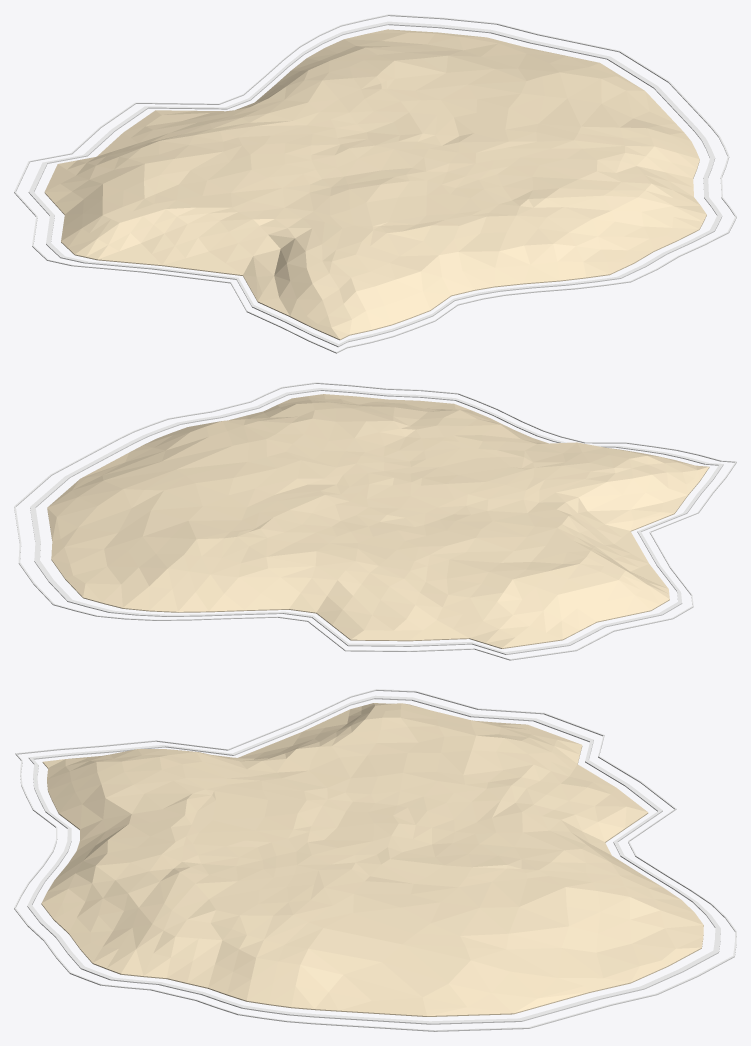
File: ground.dae
The picture shows the model from 3 angles, top to bottom: view 1: azimuth 30°, elevation 25°; view 2: azimuth 150°, elevation 25°; view 3: azimuth 270°, elevation 25°; orthographic projection. The views are drawn at different scales.
Parts seen in each view (by area): view 1: Ground_Large; view 2: Ground_Large; view 3: Ground_Large.
Part boxes in pixels (<box>): Ground_Large: <box>14,14,736,353</box>; Ground_Large: <box>14,382,736,660</box>; Ground_Large: <box>14,689,736,1031</box>.
Bounding box in the file's own units: 38.05 × 34.02 × 1.72.
Materials: 1 (1 with a texture image).
